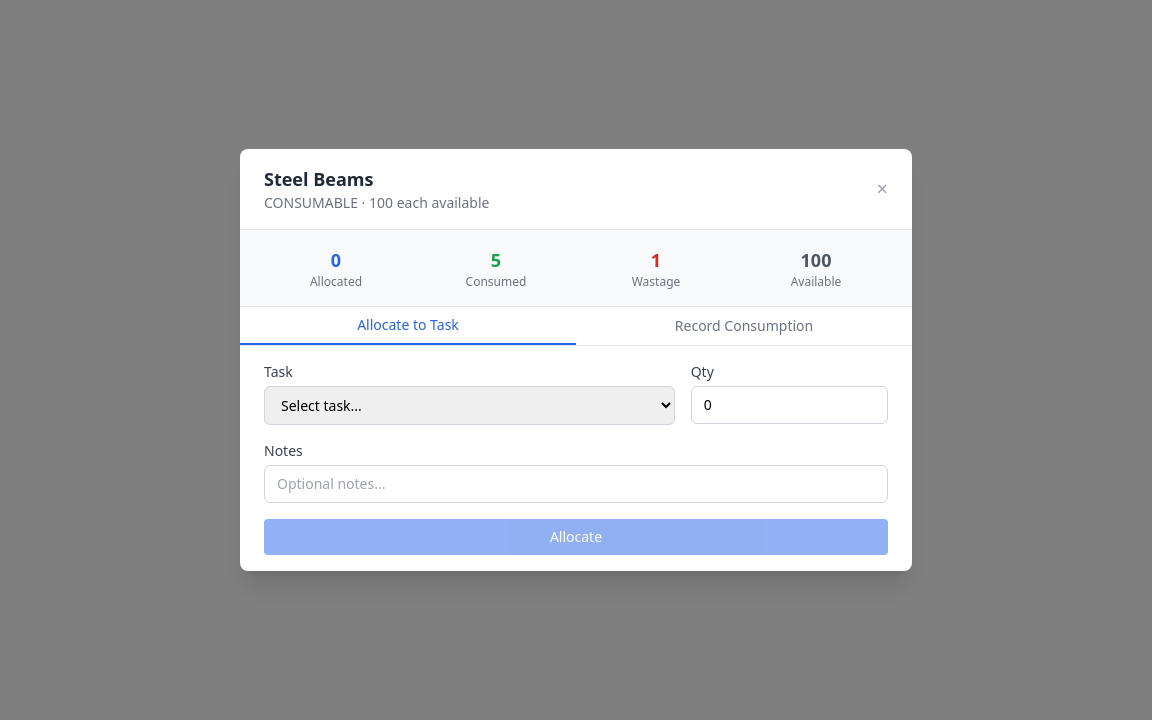
Test case: MaterialAllocationModal › shows consumption history when consumptions exist
The image size is (1152, 720).
What coordinates should you click on to do the following:
click the button "Record Consumption"
I would click on:
 (744, 326)
Its box is [576, 307, 912, 345].
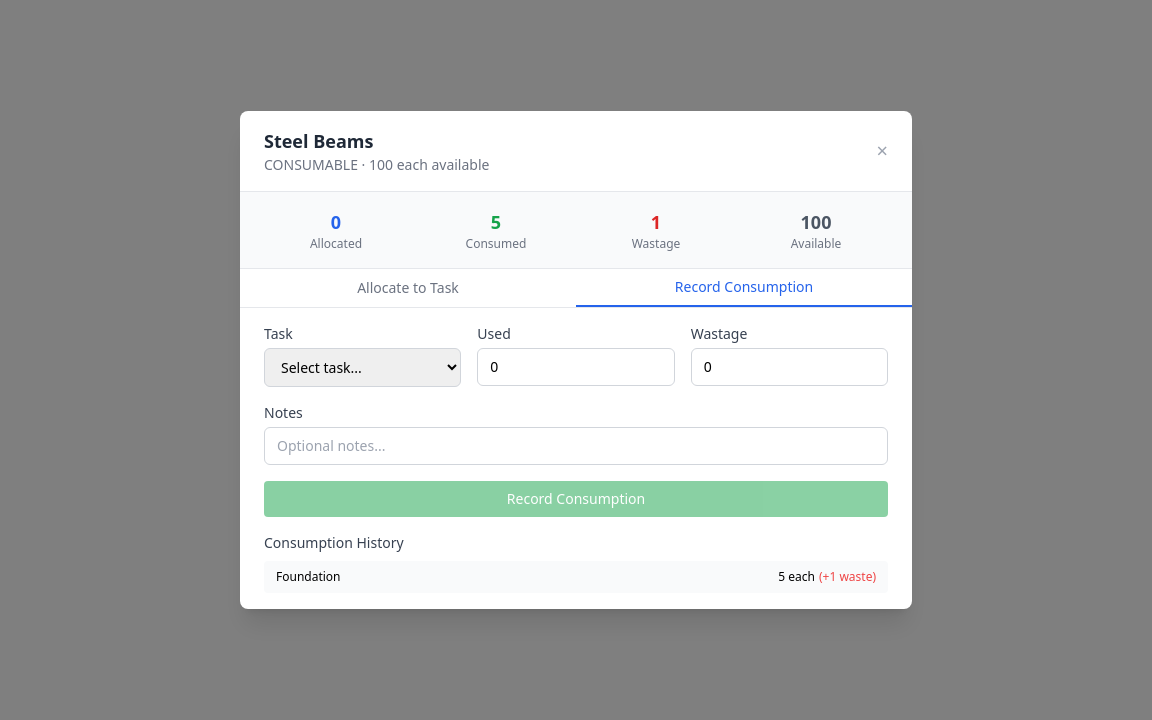
Expected: the heading "Consumption History" is shown, [264, 533, 404, 552]
Expected: the text "5 each" is shown, [778, 569, 876, 585]
